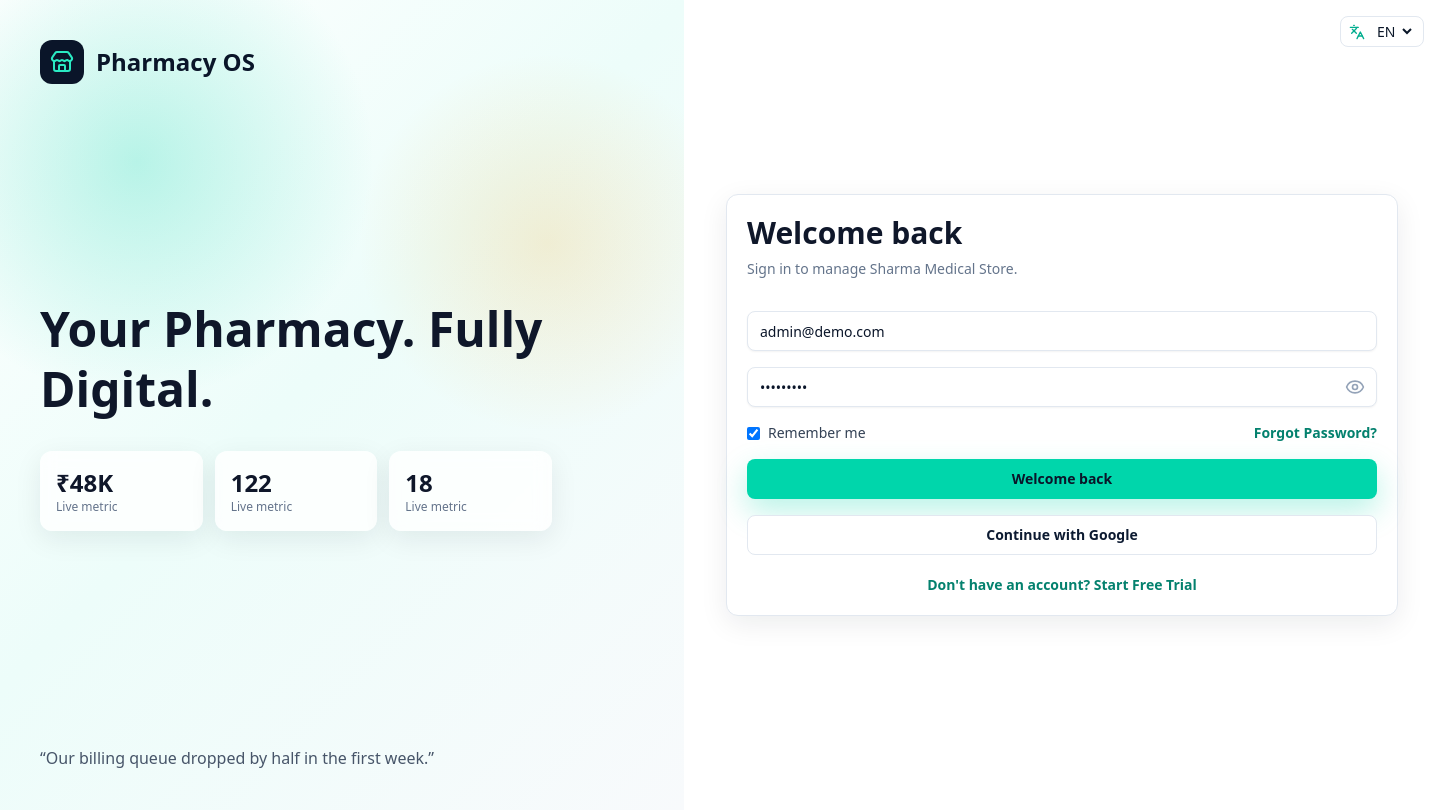
Test: LoginForm › validates invalid input before submit
Replace the text in the field with placeholder "Email address" with "invalid-email" at (1062, 331), box top-left (747, 311), bottom-right (1377, 351)
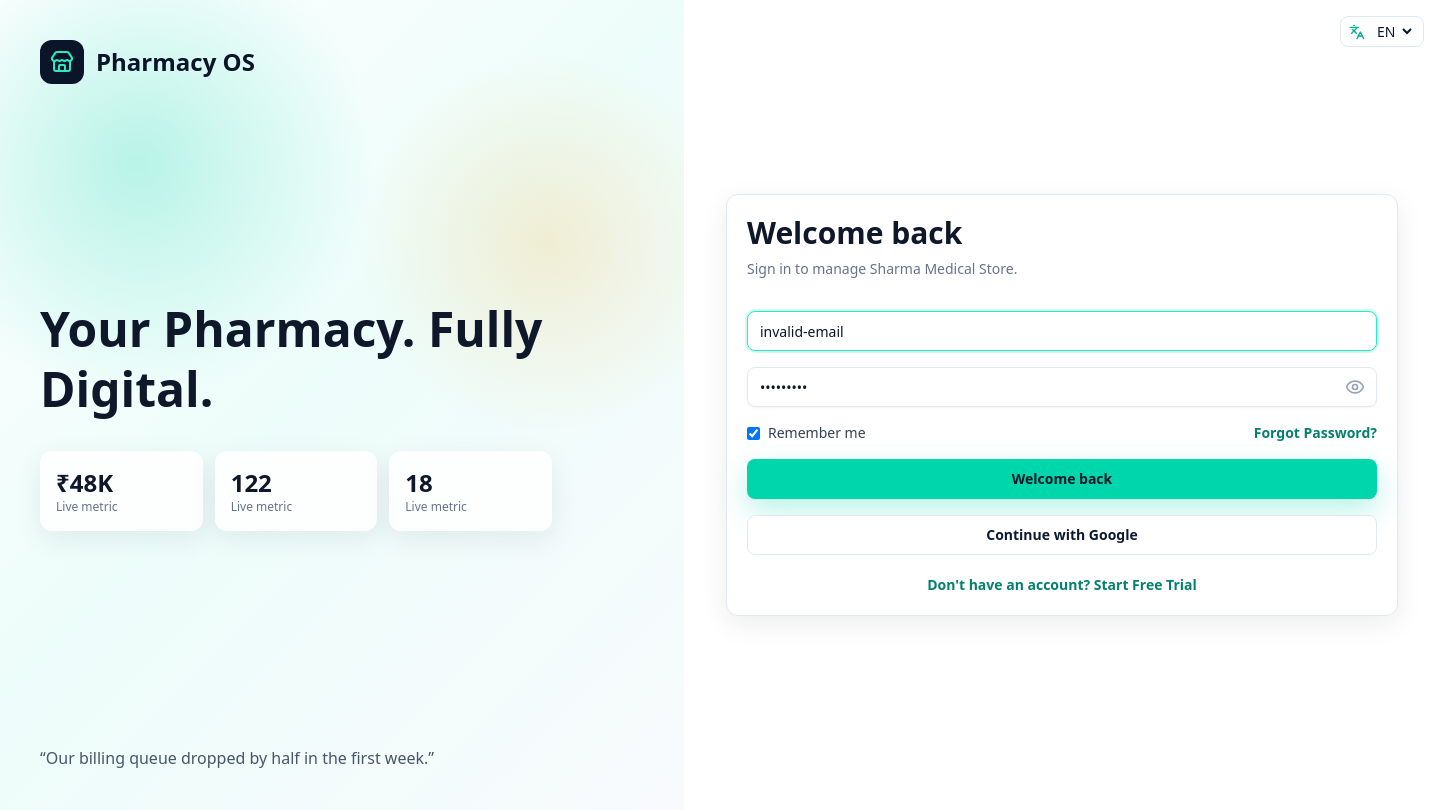
Clear the password field with placeholder "Password" at (1062, 387), box top-left (747, 367), bottom-right (1377, 407)
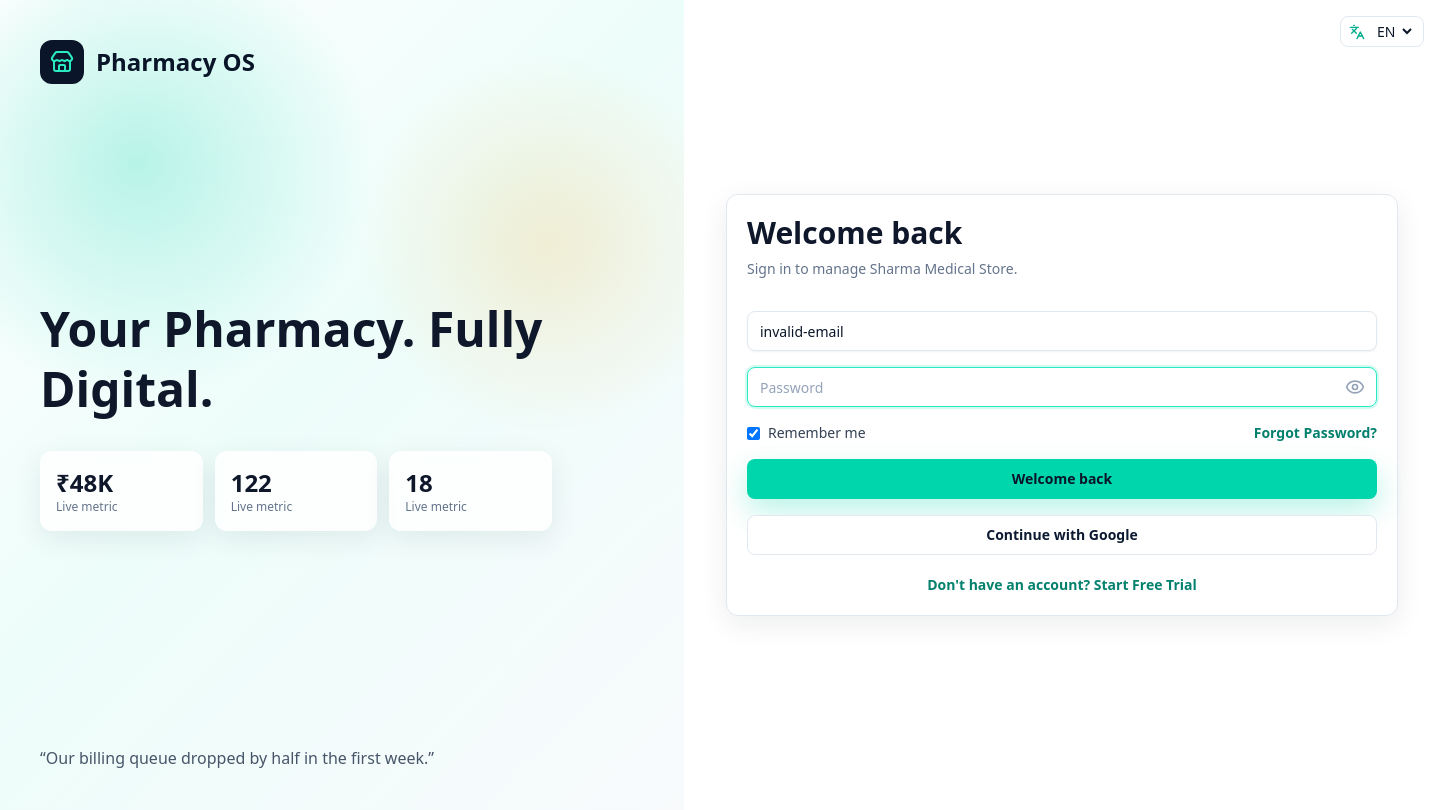
Click the button "Welcome back" at (1062, 479), box top-left (747, 459), bottom-right (1377, 499)
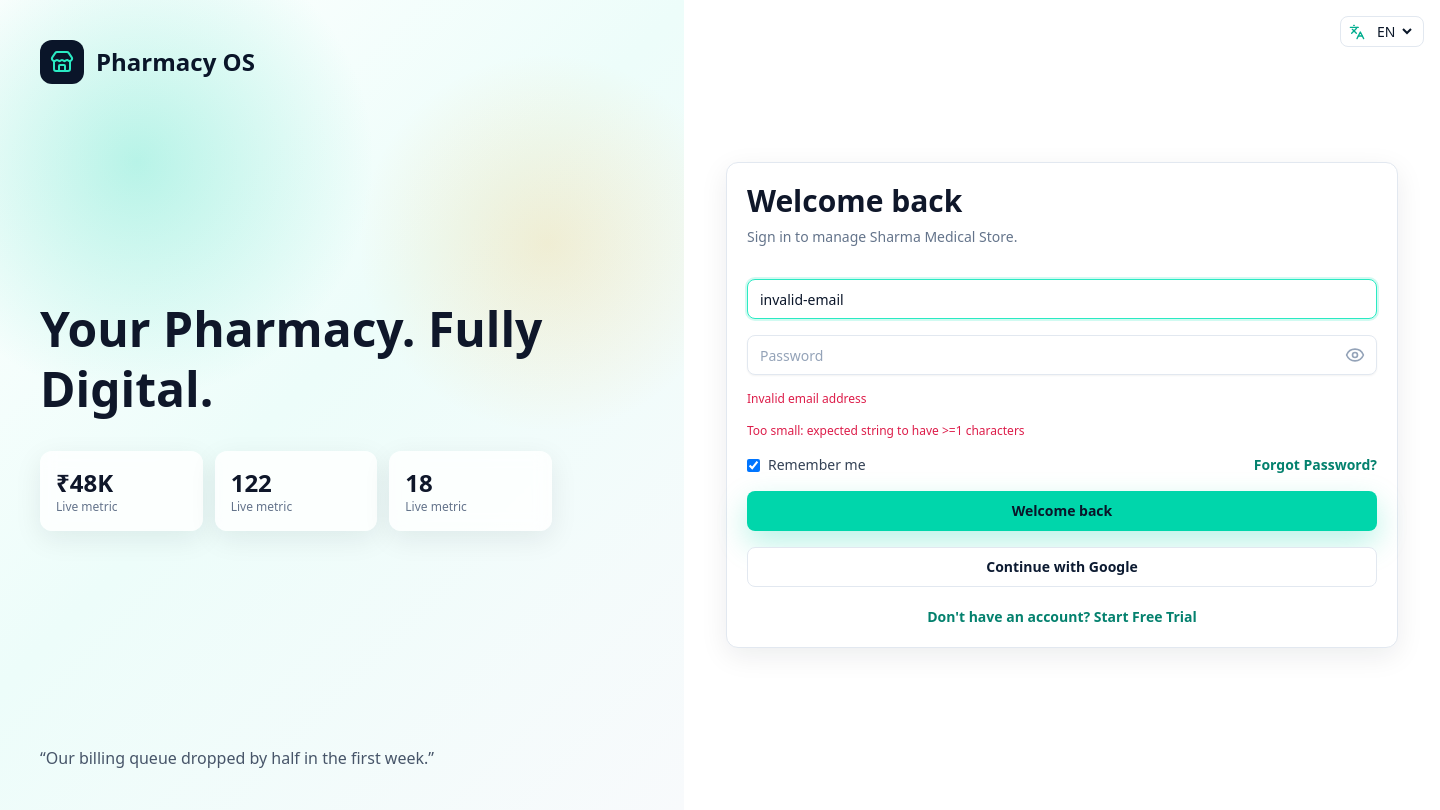
Now the text "Invalid email address" is shown, box top-left (747, 390), bottom-right (866, 407)
